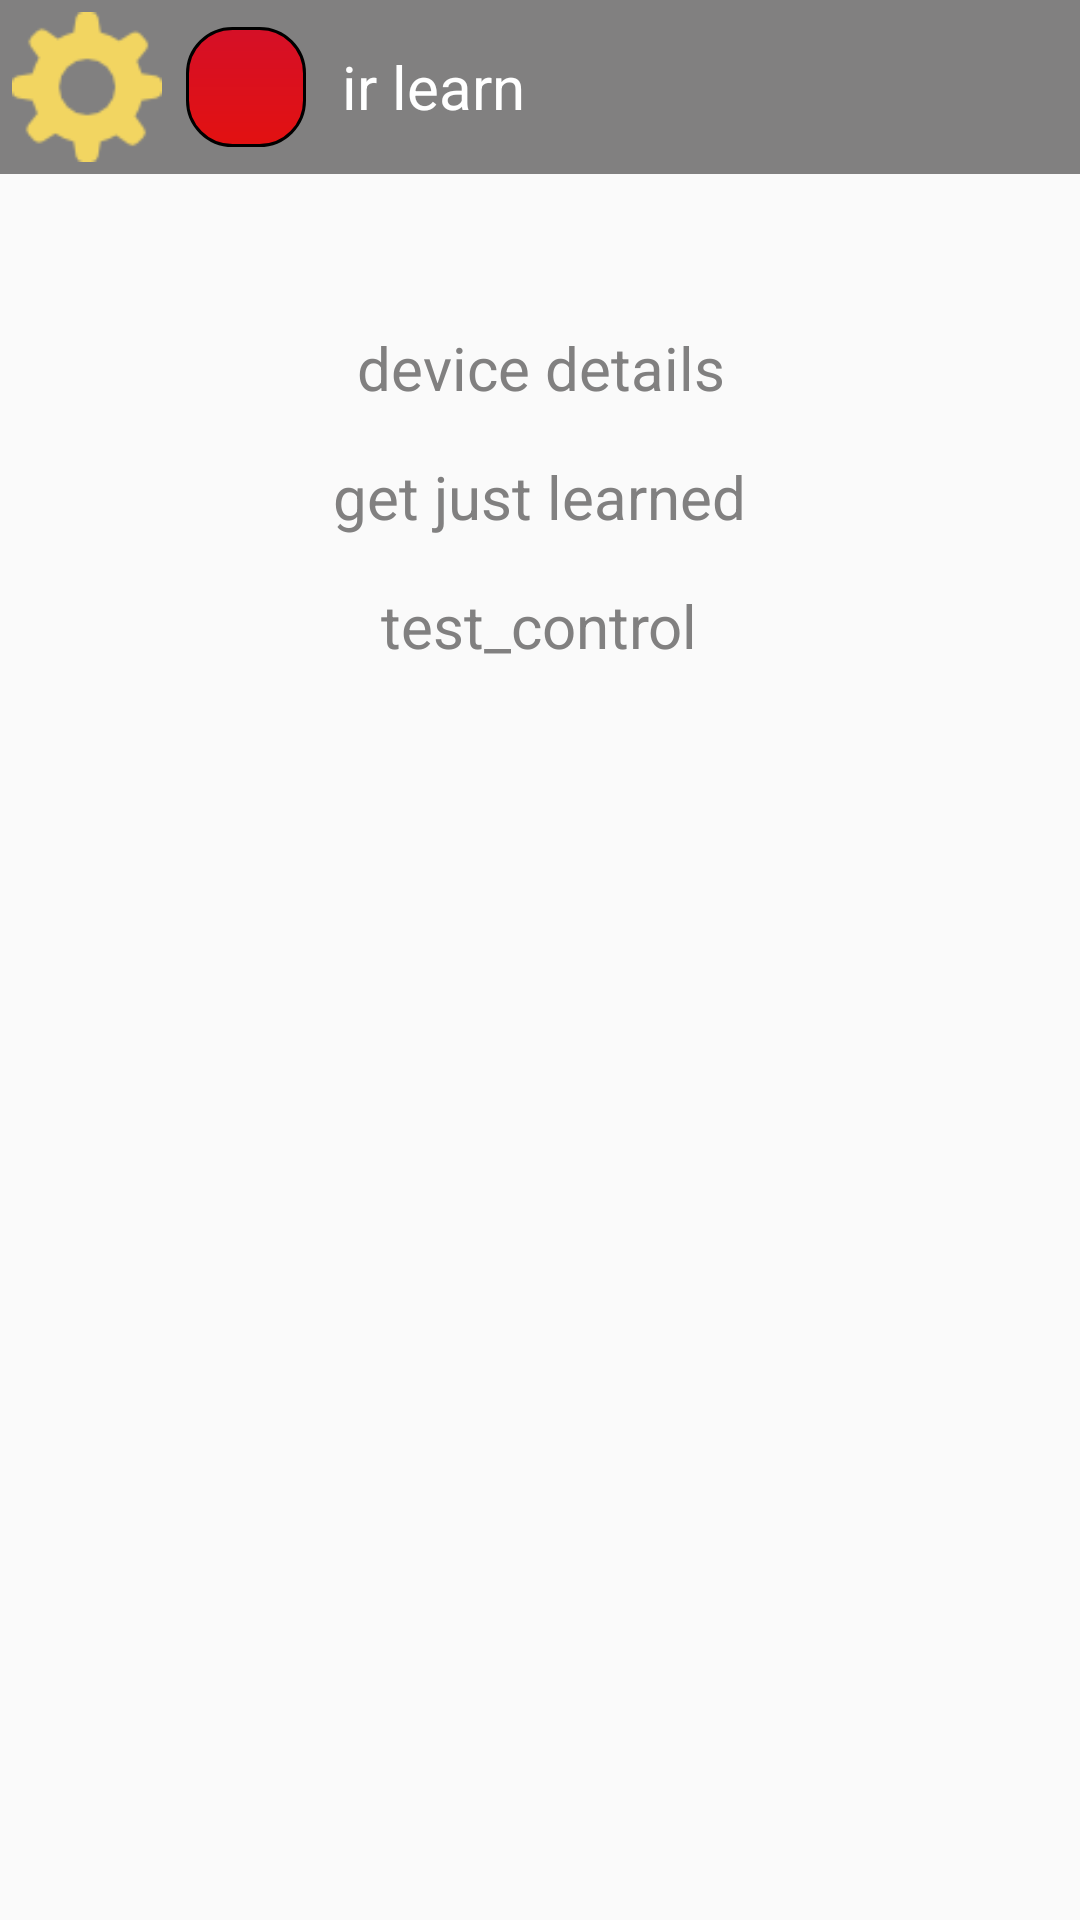

Icon click points for this 1080 × 1920 phone screenshot, format point (x, y):
settings: point (87, 87)
